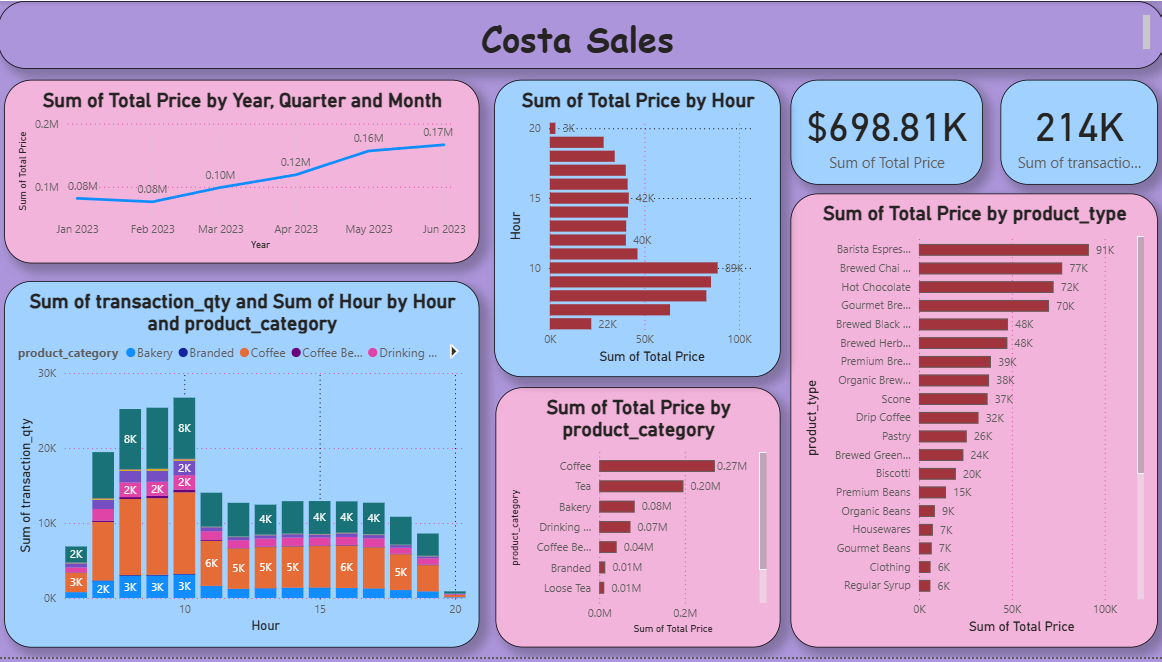

What the dashboard file says about the page in this screenshot:
{"tool":"powerbi","page":{"name":"Summary","canvas":[1280,720],"ordinal":0},"visuals":[{"type":"textbox","box":[0,0,1280.3,74.1],"z":0},{"type":"card","fields":{"Values":["Sum(Costa Sales.Total Price)"]},"box":[870,86.4,211.3,115.3],"z":1000},{"type":"card","fields":{"Values":["Sum(Costa Sales.transaction_qty)"]},"box":[1100.5,86.4,172.9,115.3],"z":2000},{"type":"clusteredBarChart","fields":{"Category":["Costa Sales.product_category"],"Y":["Sum(Costa Sales.Total Price)"]},"box":[546.1,424,312.9,285.4],"z":3000},{"type":"clusteredBarChart","fields":{"Category":["Costa Sales.product_type"],"Y":["Sum(Costa Sales.Total Price)"]},"box":[870,211.3,403.4,498.1],"z":4000},{"type":"lineChart","fields":{"Category":["Costa Sales.transaction_date.Variation.Date Hierarchy.Year","Costa Sales.transaction_date.Variation.Date Hierarchy.Quarter","Costa Sales.transaction_date.Variation.Date Hierarchy.Month"],"Y":["Sum(Costa Sales.Total Price)"]},"box":[6.9,86.4,521.4,201.7],"z":5000},{"type":"clusteredBarChart","fields":{"Y":["Sum(Costa Sales.Total Price)"],"Category":["Costa Sales.Hour"]},"box":[544.8,86.4,314.2,326.6],"z":6000},{"type":"columnChart","fields":{"Category":["Costa Sales.Hour"],"Series":["Costa Sales.product_category"],"Y":["Sum(Costa Sales.transaction_qty)"]},"box":[6.9,307.4,521.4,402.1],"z":7000}]}

Visuals, with their boxes in screenshot pixels (x1, y1, x2, y2), scaled from the page's 1280x720 canvas onto the 1162x662 screenshot:
textbox: detection(0, 0, 1161, 68)
card - Sum(Costa Sales.Total Price): detection(790, 79, 982, 185)
card - Sum(Costa Sales.transaction_qty): detection(999, 79, 1156, 185)
clusteredBarChart - Costa Sales.product_category x Sum(Costa Sales.Total Price): detection(496, 390, 780, 652)
clusteredBarChart - Costa Sales.product_type x Sum(Costa Sales.Total Price): detection(790, 194, 1156, 652)
lineChart - Costa Sales.transaction_date.Variation.Date Hierarchy.Year x Costa Sales.transaction_date.Variation.Date Hierarchy.Quarter: detection(6, 79, 480, 265)
clusteredBarChart - Sum(Costa Sales.Total Price) x Costa Sales.Hour: detection(495, 79, 780, 380)
columnChart - Costa Sales.Hour x Costa Sales.product_category: detection(6, 283, 480, 652)
